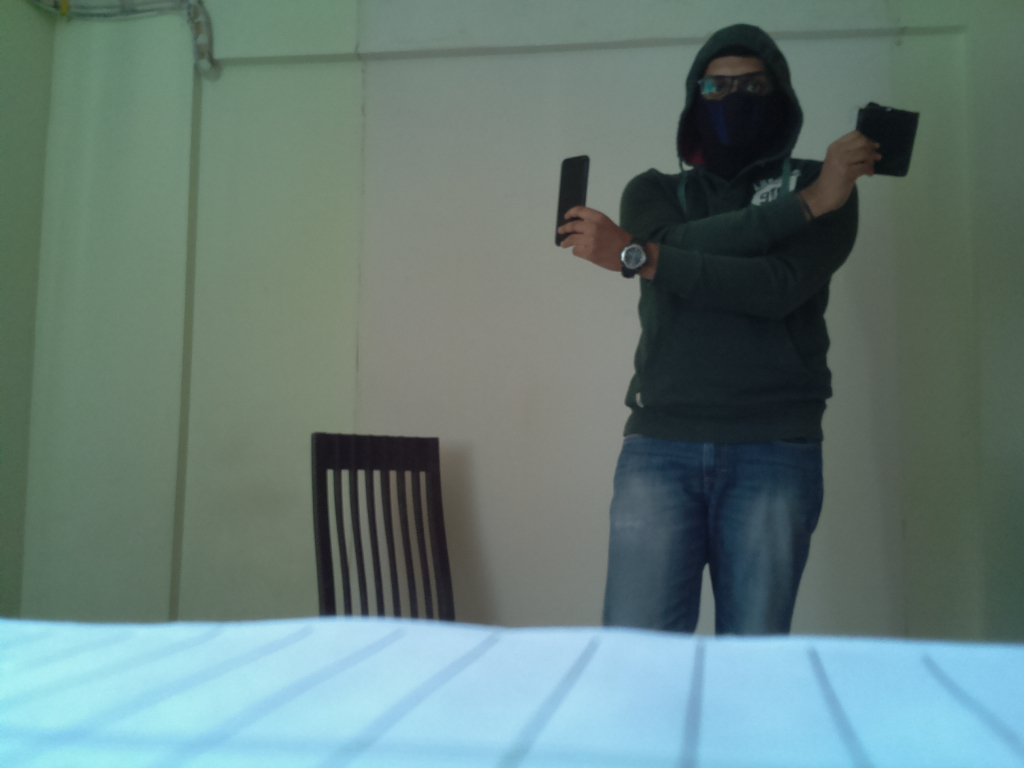none2: (849, 96, 928, 188), (554, 152, 589, 248), (616, 238, 651, 279)
